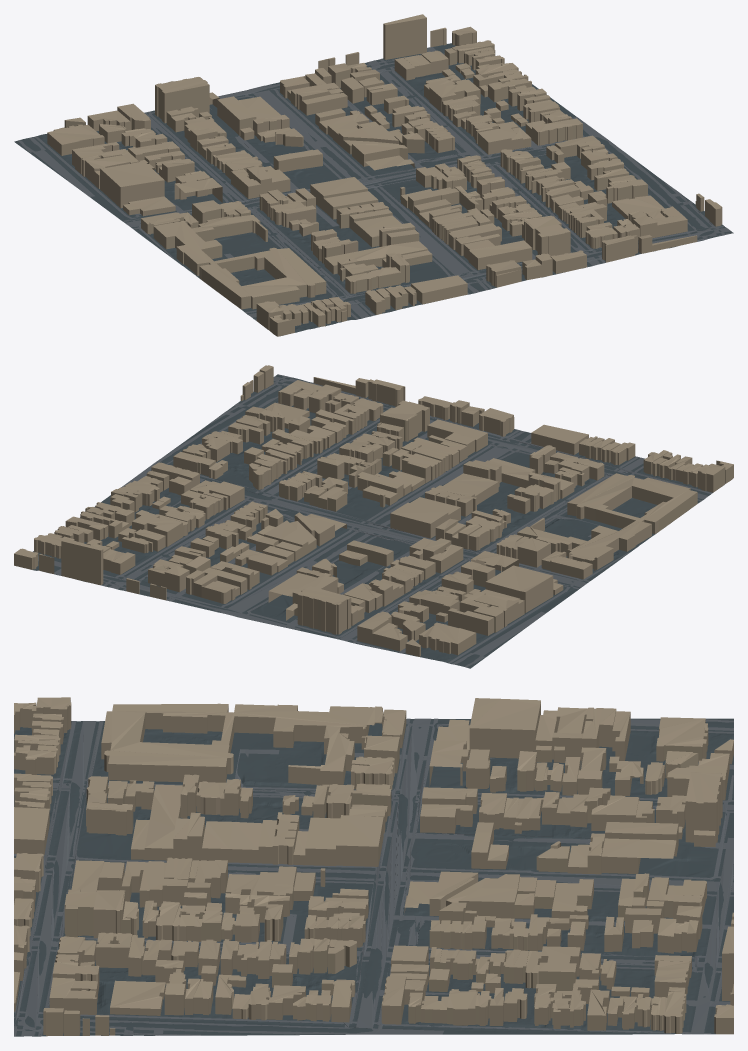
The model's file is epsg26910-1435-10881.lod0.glb.
3 renders of one model, top to bottom at view 1: azimuth 30°, elevation 25°; view 2: azimuth 150°, elevation 25°; view 3: azimuth 270°, elevation 25°, orthographic. The views are drawn at different scales.
Visible parts, largest first — view 1: epsg26910-1435-10881-lod0; view 2: epsg26910-1435-10881-lod0; view 3: epsg26910-1435-10881-lod0.
Boxes of the visible parts, left/top/right/bottom form: epsg26910-1435-10881-lod0: left=14, top=14, right=733, bottom=336; epsg26910-1435-10881-lod0: left=14, top=365, right=733, bottom=668; epsg26910-1435-10881-lod0: left=14, top=697, right=733, bottom=1036.
Bounding box in the file's own units: 384 × 30.6 × 384.
